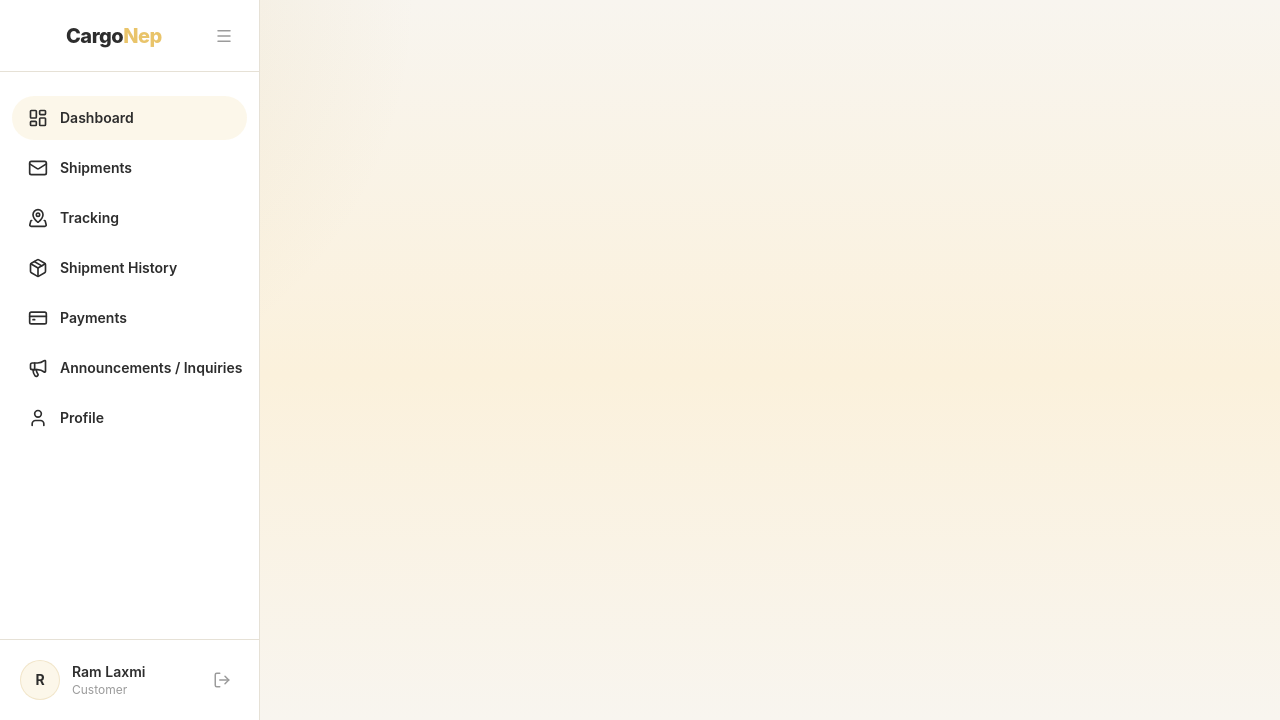
it: customer dashboard navigation and profile › persists sidebar collapse and restores it
Step 1. Click the button named "Collapse sidebar" → [224, 36], box [209,20,239,50]
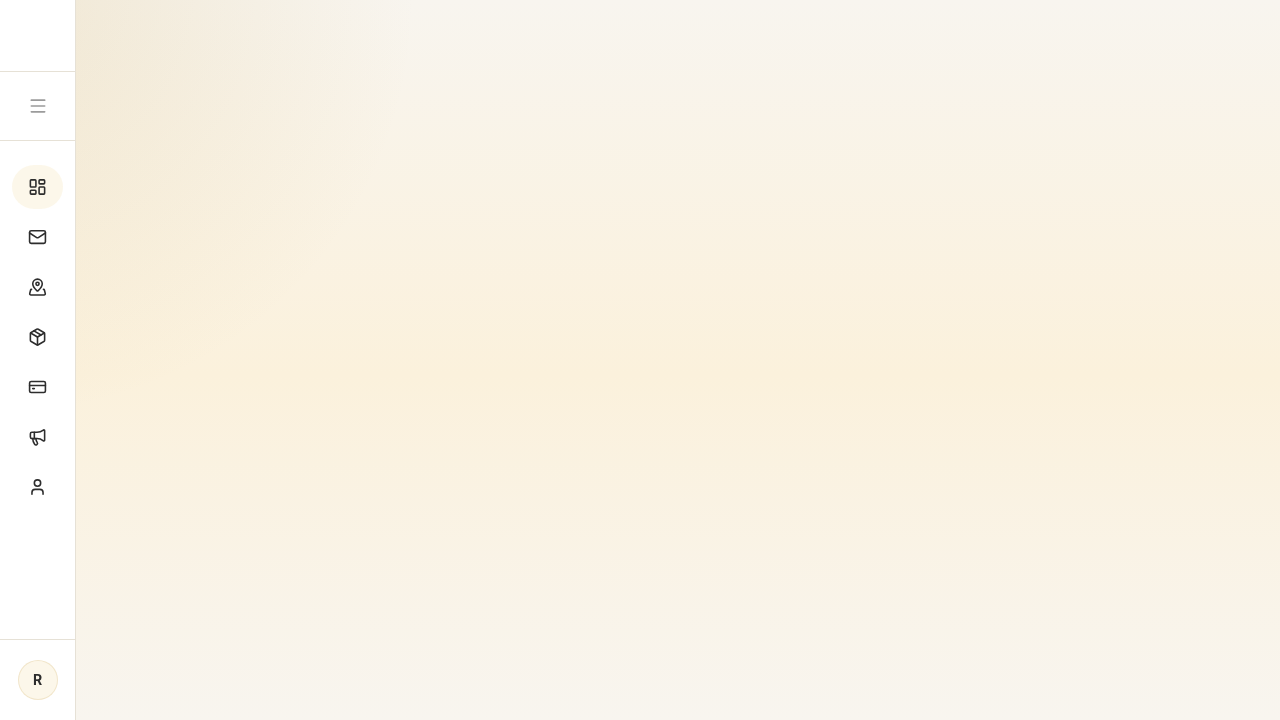
Expected: the button named "Expand sidebar" is shown, [20,88,56,124]
